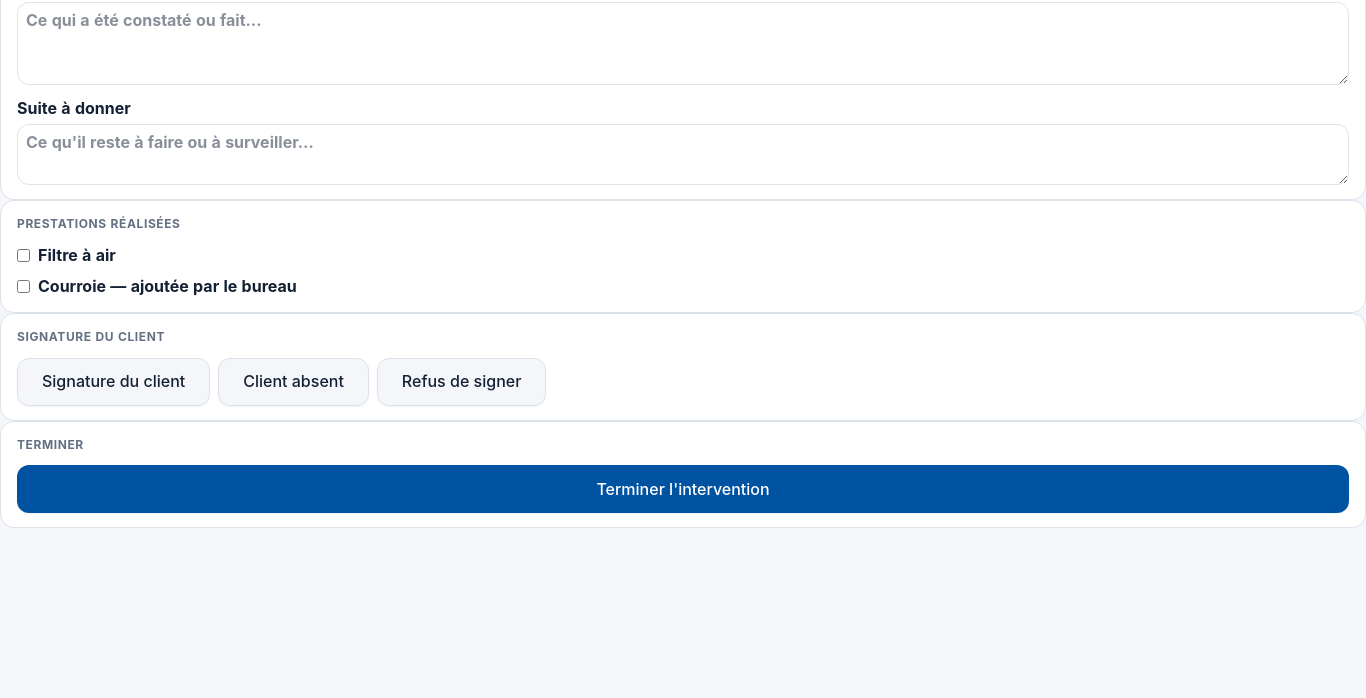
Test: le verdict local de « Terminer », hors réseau (point 4, 9F4H3A, C5) › aucune minute connue, mais un segment FERMÉ dans la file : accepté et mis en file
Click the button "Client absent": {"x": 294, "y": 382} [218, 358, 369, 406]
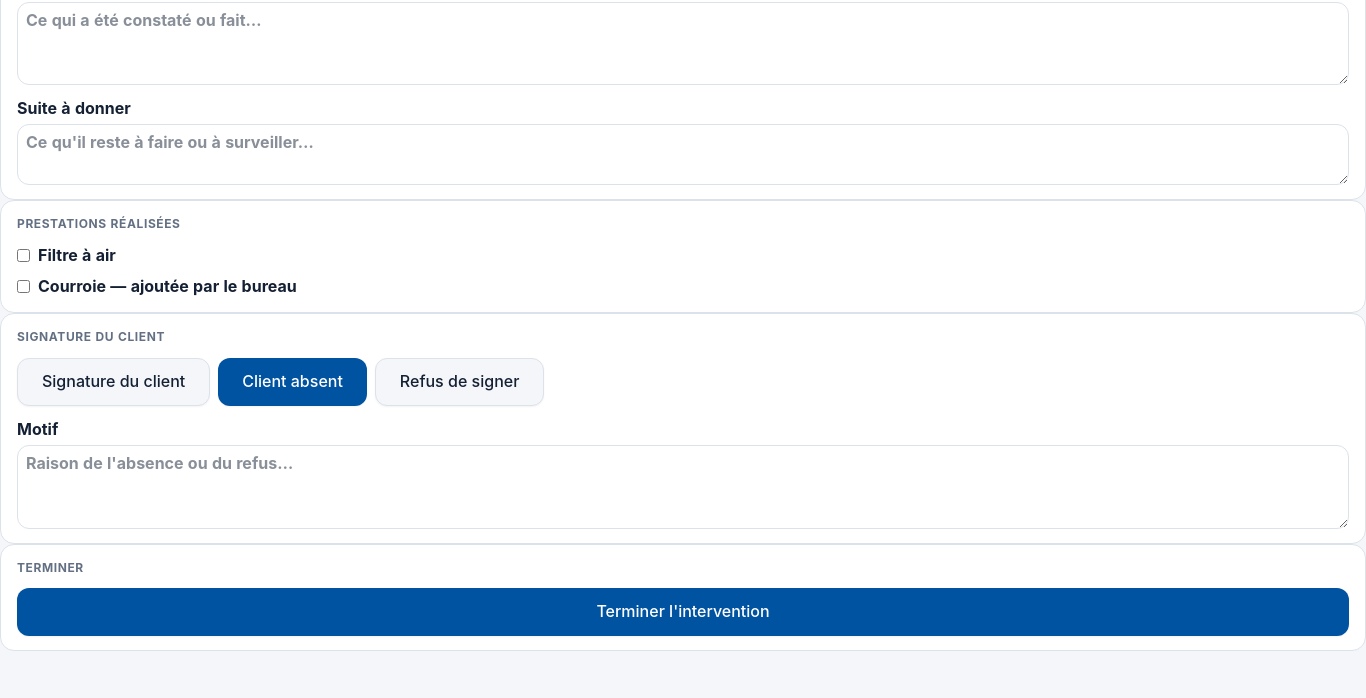
In the text box labelled "Motif": {"x": 683, "y": 487} [17, 445, 1349, 529], type "Client absent au départ du technicien"
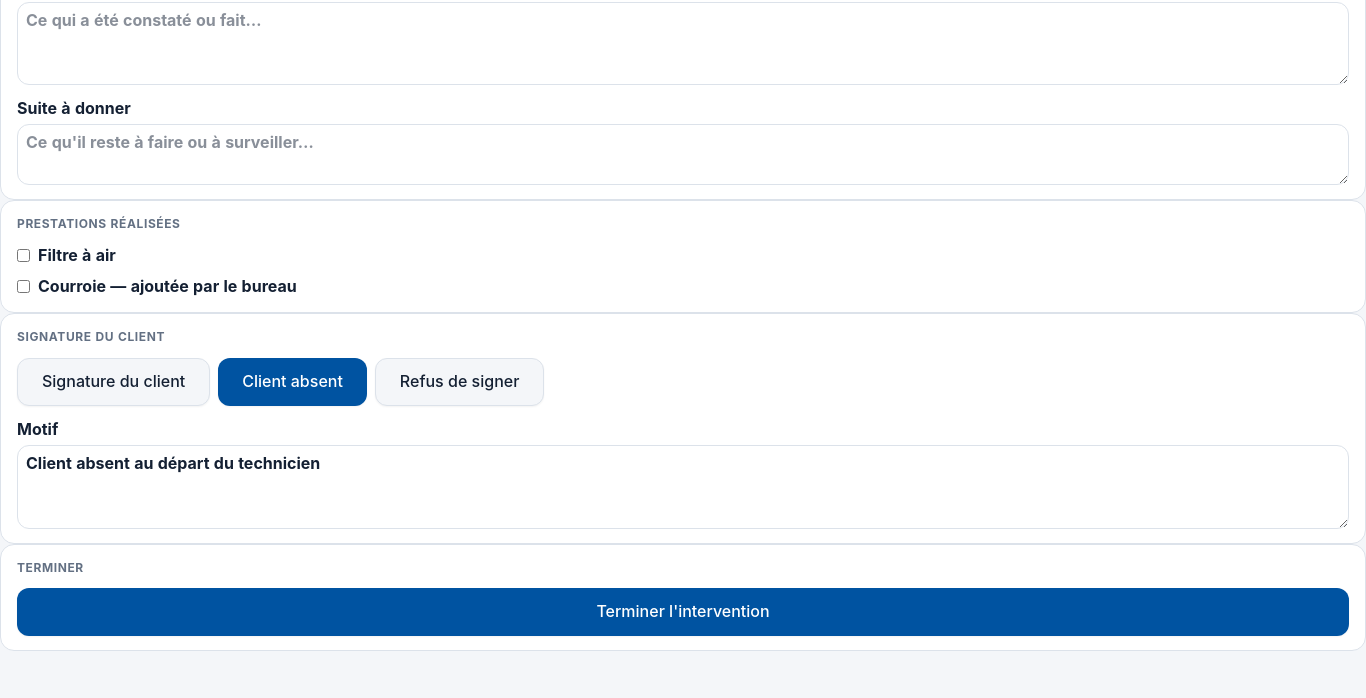
Click the button "Terminer l'intervention": {"x": 683, "y": 612} [17, 588, 1349, 636]
(page scrolled)
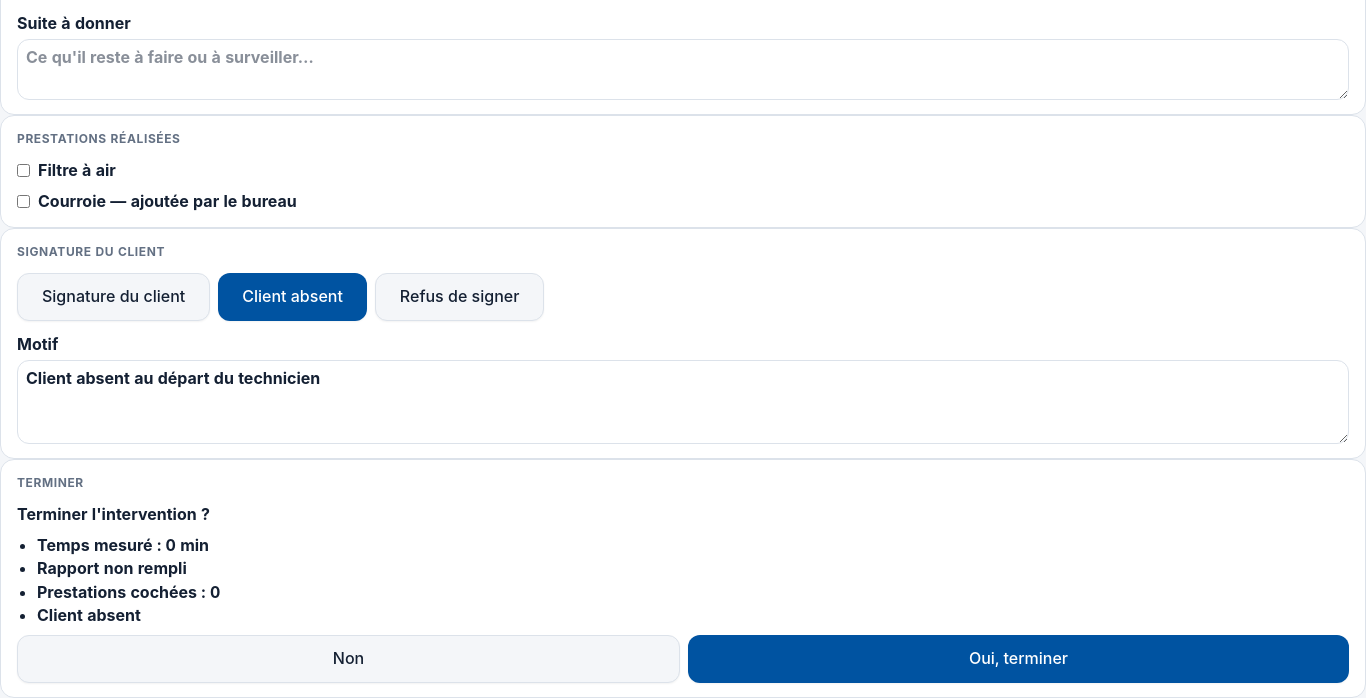
Click the button "Oui, terminer": {"x": 1018, "y": 659} [688, 635, 1349, 683]
(page scrolled)
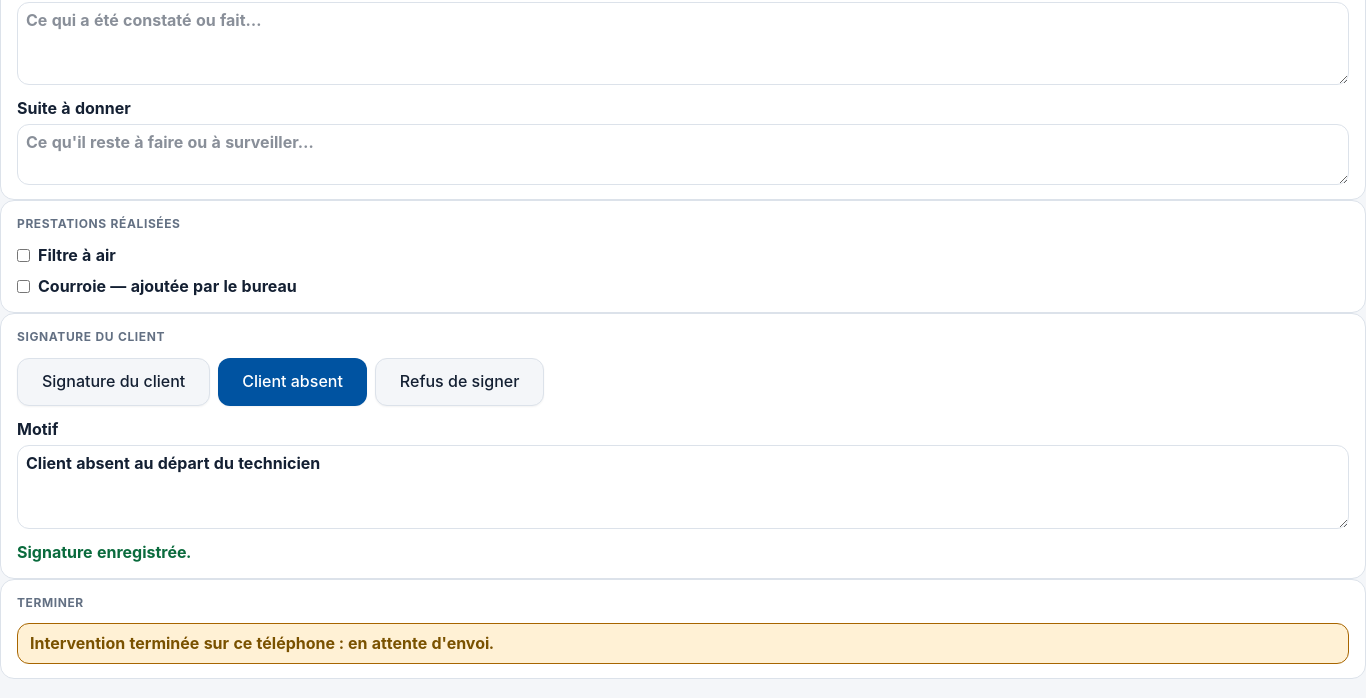
Expected: the text "Intervention terminée sur ce téléphone : en attente d'envoi." is shown, [17, 623, 1349, 664]
